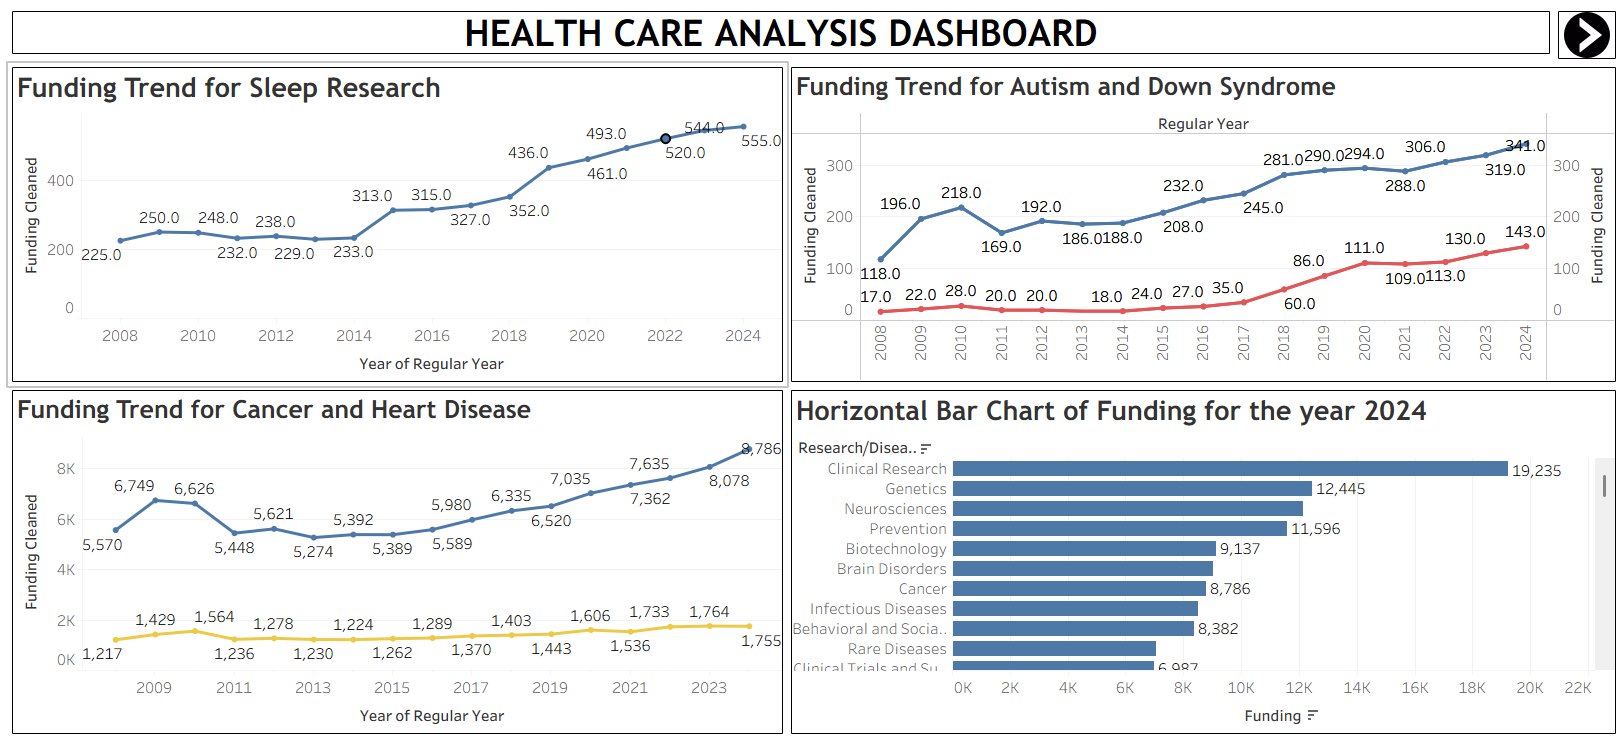

Layout of this report page (visuals, bound fields, positions):
{"tool":"tableau","page":{"name":"Dashboard 1","canvas":[1000,1000],"units":"permille","ordinal":0},"visuals":[{"type":"text","box":[4.9,10.7,949.6,68.3]},{"type":"dashboard-object","box":[954.5,10.7,40.6,75]},{"type":"worksheet","title":"Funding Trend","mark":"Automatic","rows":["Calculation_335518175856336896"],"cols":["Calculation_335518175857041411"],"box":[4.9,85.7,478.5,432.4]},{"type":"worksheet","title":"Dual Axis","mark":"Automatic","rows":["Calculation_335518175856336896","Calculation_335518175856336896"],"cols":["Calculation_335518175857041411"],"box":[483.4,85.7,511.7,432.4]},{"type":"worksheet","title":"Dual Line Graph","mark":"Line","rows":["Calculation_335518175856336896"],"cols":["Calculation_335518175857041411"],"box":[4.9,518,478.5,471.2]},{"type":"worksheet","title":"Horizontal Bar Chart","mark":"Automatic","rows":["Research/Disease Areas"],"cols":["Pivot Field Values"],"box":[483.4,518,511.7,471.2]}]}

Visuals, with their boxes on the dashboard's canvas, which has no fixed pixel size, in thousandths of its width and height (x1, y1, x2, y2). These are canvas units, not pixel positions in the 1622x742 screenshot, which may show the page scaled, cropped or inside an application window:
text: pyautogui.locateOnScreen(5, 11, 954, 79)
dashboard-object: pyautogui.locateOnScreen(954, 11, 995, 86)
"Funding Trend" worksheet: pyautogui.locateOnScreen(5, 86, 483, 518)
"Dual Axis" worksheet: pyautogui.locateOnScreen(483, 86, 995, 518)
"Dual Line Graph" worksheet (Line marks): pyautogui.locateOnScreen(5, 518, 483, 989)
"Horizontal Bar Chart" worksheet: pyautogui.locateOnScreen(483, 518, 995, 989)
